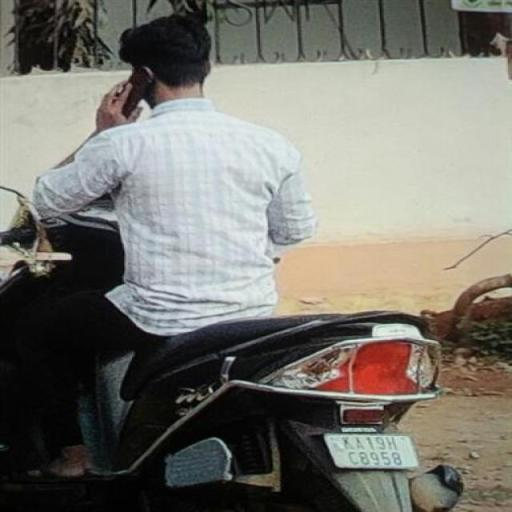using mobile: (95, 62, 161, 126)
